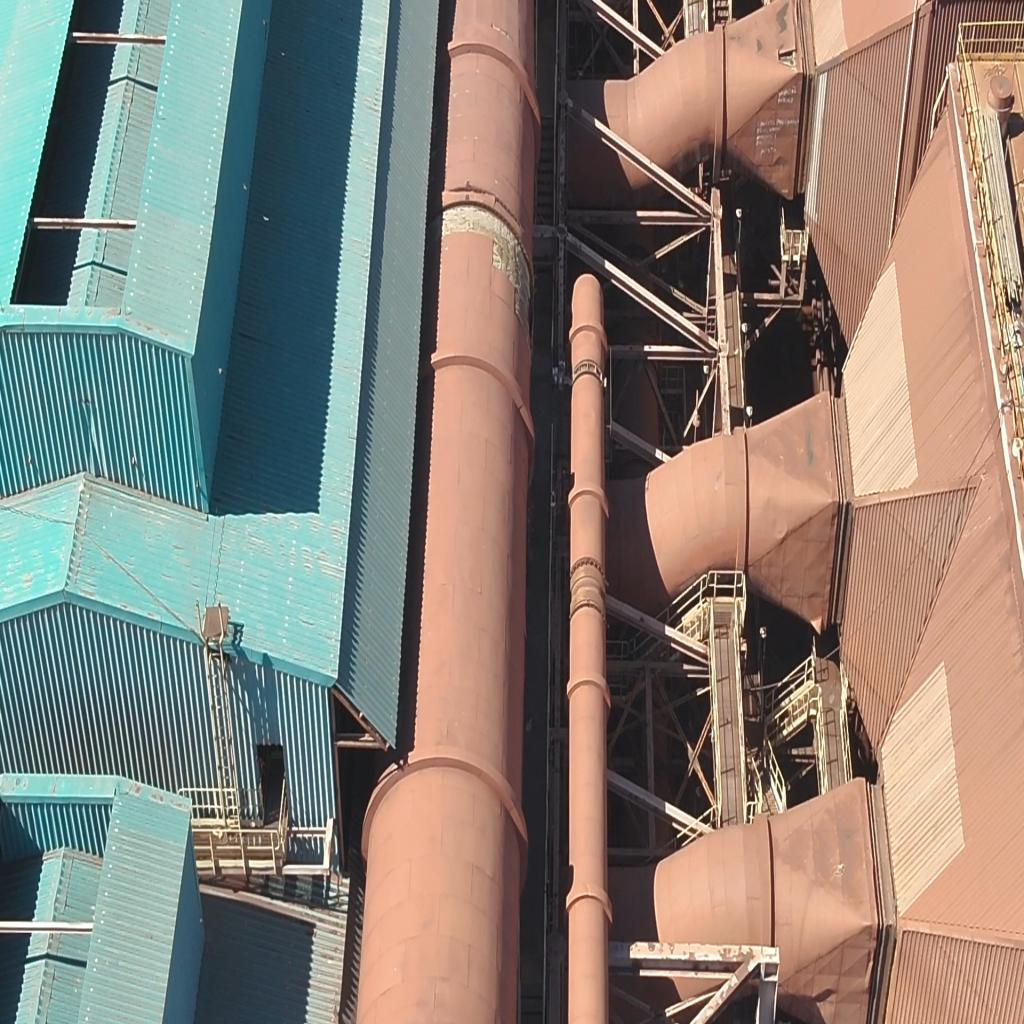Failures: (434, 178, 535, 328), (773, 33, 801, 73)
